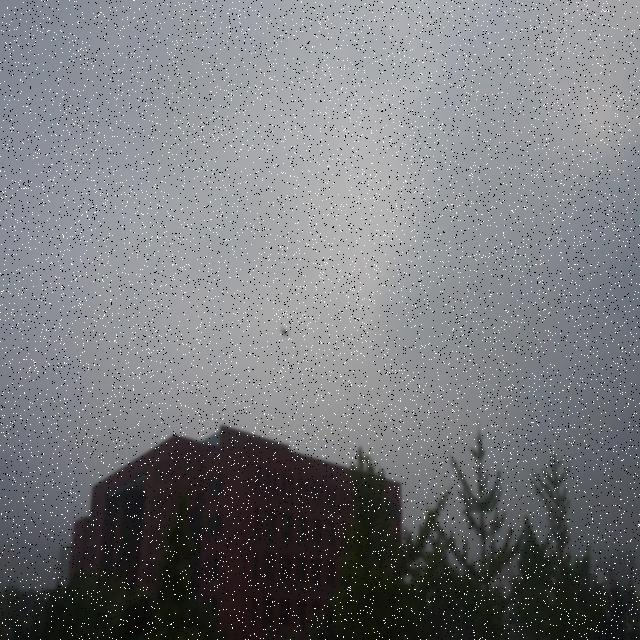UAV: (280, 326, 290, 338)
